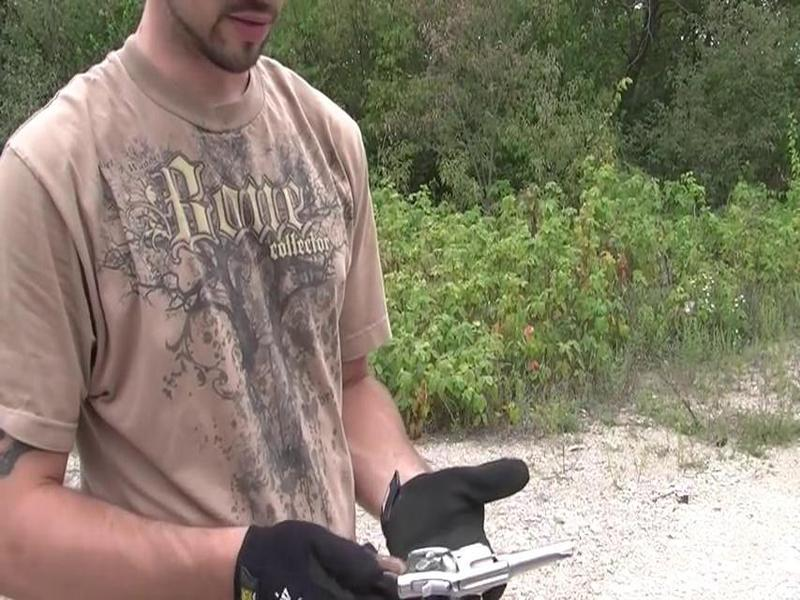Revolver: (302, 517, 605, 600)
